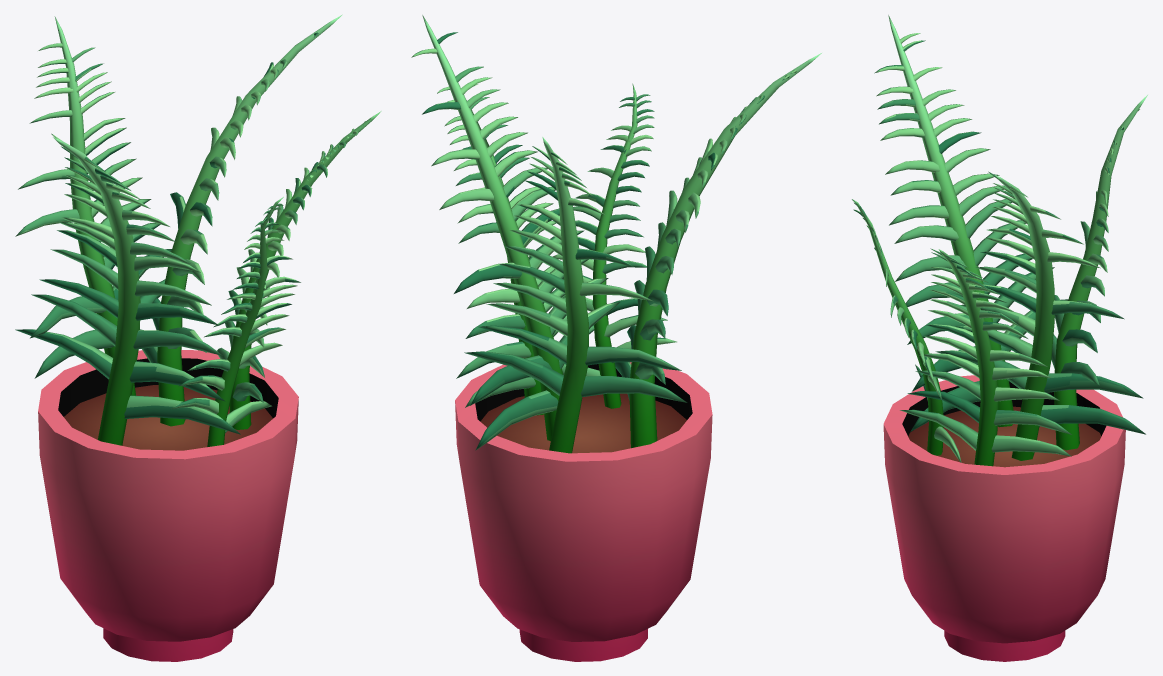
Rendered from Plant 4.fbx.
3 renders of one model, left to right at view 1: azimuth 30°, elevation 25°; view 2: azimuth 150°, elevation 25°; view 3: azimuth 270°, elevation 25°, orthographic. The views are drawn at different scales.
Visible parts, largest first — view 1: Pot 4, Plant 4; view 2: Pot 4, Plant 4; view 3: Plant 4, Pot 4.
Boxes of the visible parts, bbox=[...] form: Pot 4: bbox=[38, 350, 298, 661]; Plant 4: bbox=[15, 14, 381, 446]; Pot 4: bbox=[455, 362, 712, 661]; Plant 4: bbox=[411, 15, 821, 453]; Plant 4: bbox=[852, 15, 1147, 466]; Pot 4: bbox=[883, 375, 1125, 661].
Size of the model in its own units: 239 by 376 by 187.
